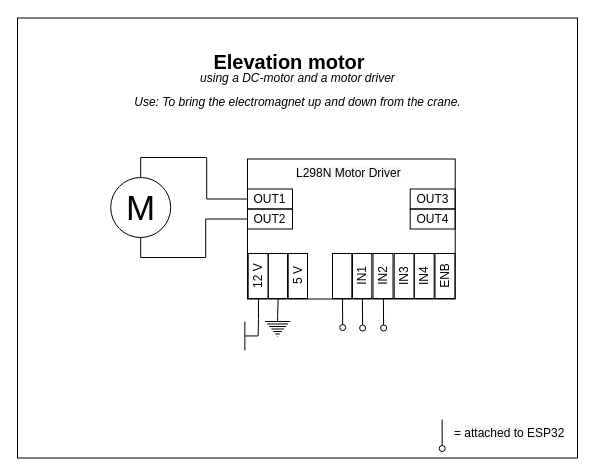
Some shapes in this 595 by 475 pixel diagram are drawn without their labels. Here are the shapes that lost their labels. From the top down, the centre of each, then its label:
At point 277,275: "GND".
At point 342,275: "ENA".
At point 251,335: "Vss = 12V".
